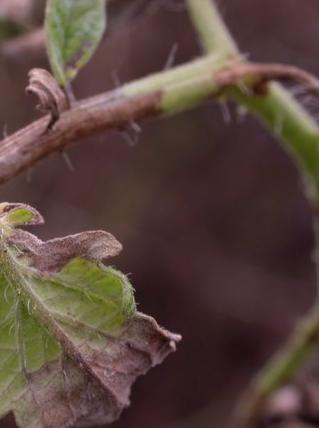Tomato leaf late blight: (0, 206, 182, 428)
